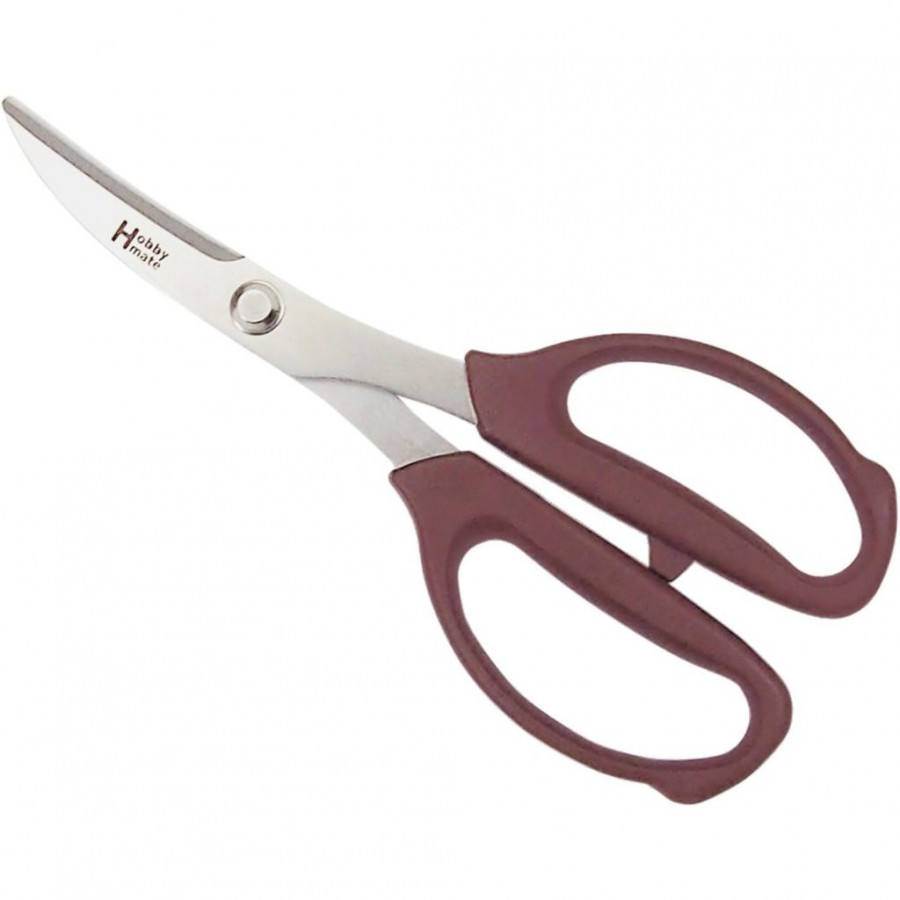scissors: (1, 89, 897, 850)
